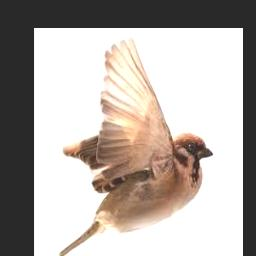Sparrow: (51, 35, 213, 256)
